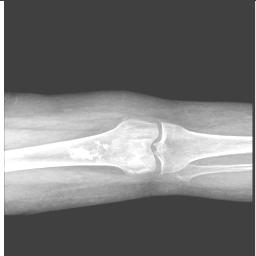cancer: (63, 136, 153, 176)
